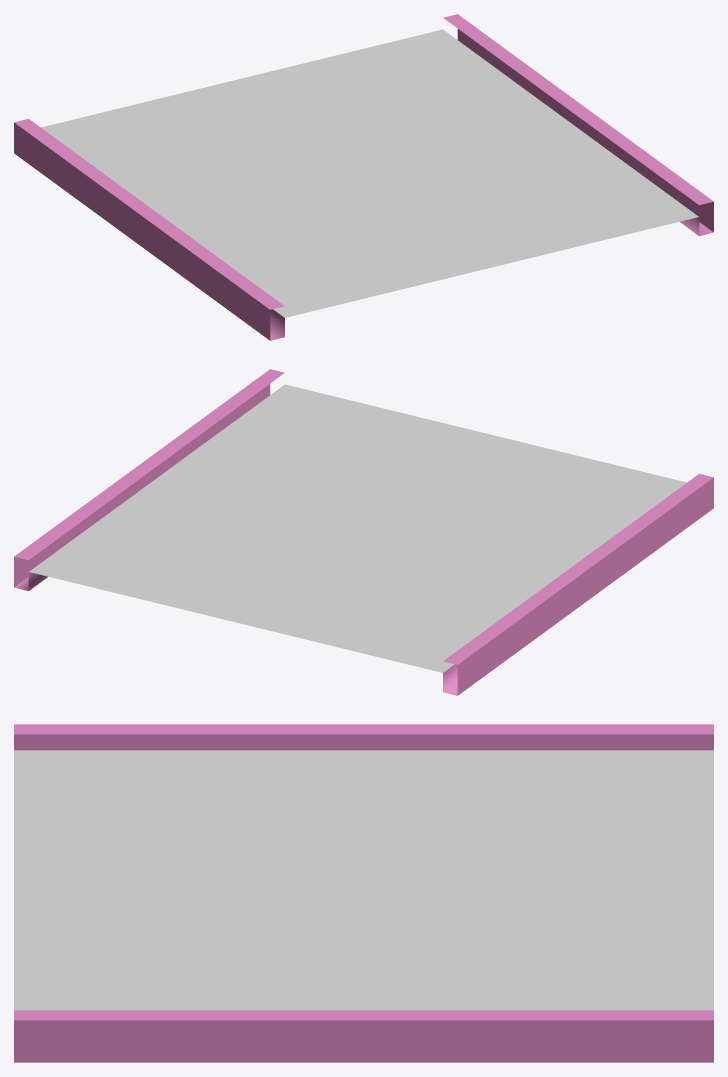
The model's file is Wall Ceiling.fbx.
3 views of the same model, one above another, from view 1: azimuth 30°, elevation 25°; view 2: azimuth 150°, elevation 25°; view 3: azimuth 270°, elevation 25° (orthographic). The views are drawn at different scales.
Parts seen in each view (by area): view 1: Cube.004; view 2: Cube.004; view 3: Cube.004.
Boxes of the visible parts, x1=… form: Cube.004: x1=14, y1=14, x2=713, y2=340; Cube.004: x1=14, y1=369, x2=713, y2=695; Cube.004: x1=14, y1=724, x2=713, y2=1062.
Bounding box in the file's own units: 3 × 0.2 × 3.
